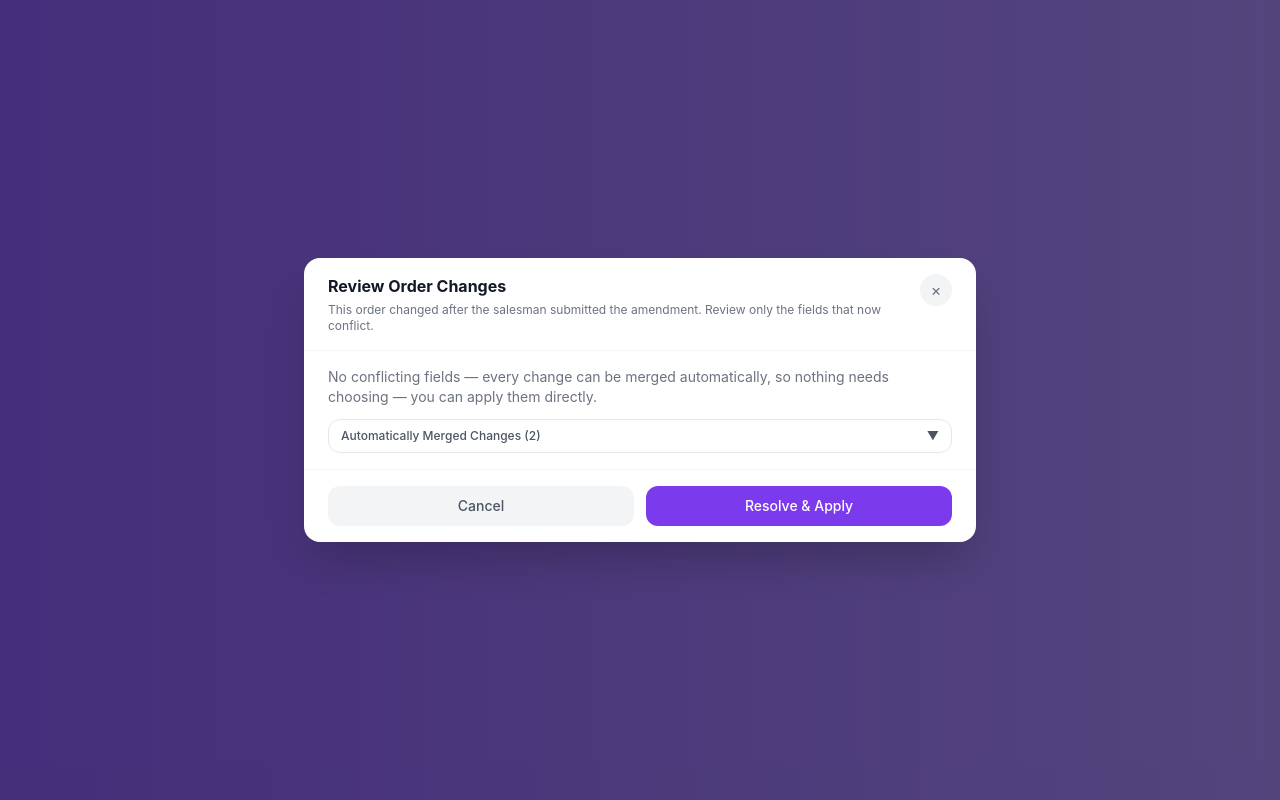
Test: AmendmentRebaseReview — Resolve & Apply gating › STALE amendment: a clear 'Order changed again' panel with a way to review the latest state
Click the button "Resolve & Apply": (799, 506) [646,486,952,526]
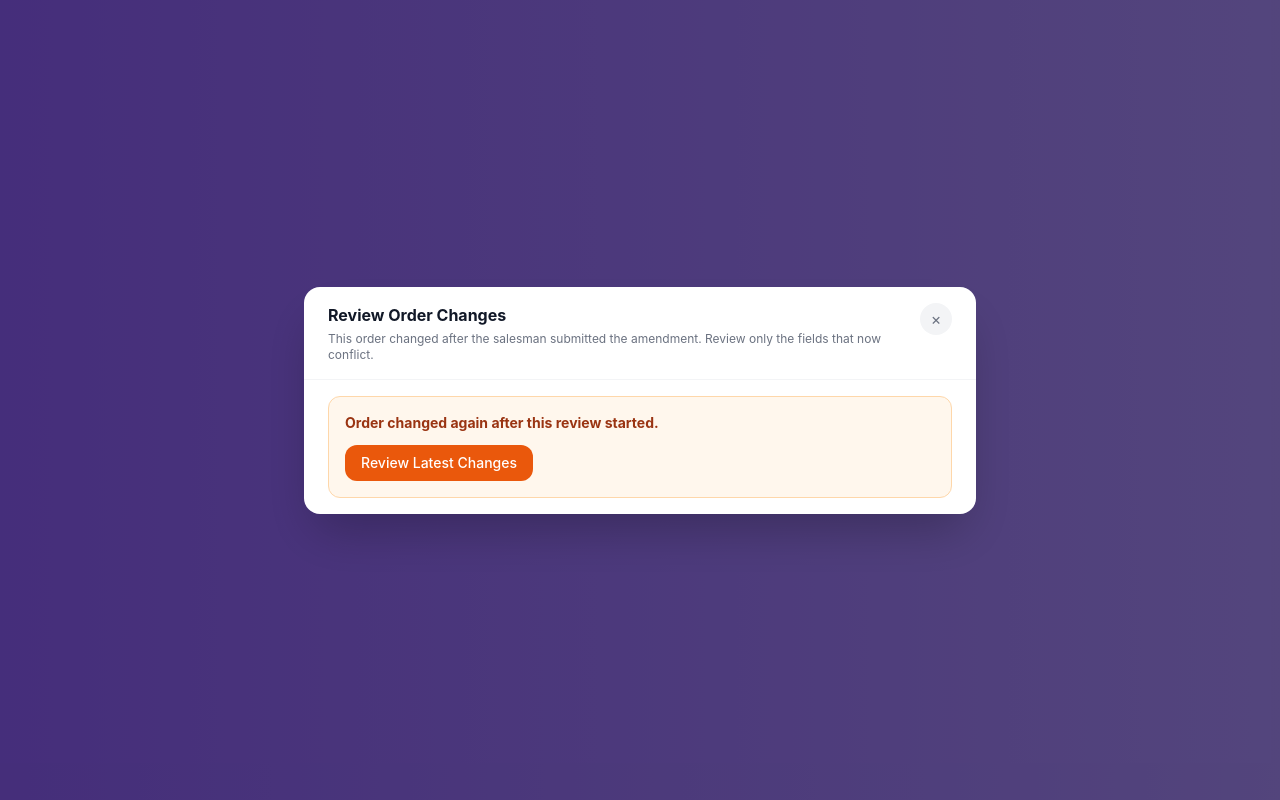
Now the text "Order changed again after this review started." is shown, box [345,414,659,430]
Now the button "Review Latest Changes" is shown, box [345,444,533,480]
